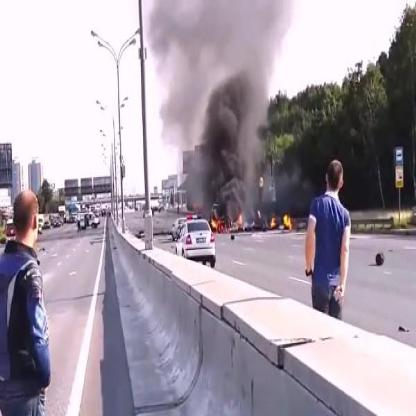fire: (211, 212, 245, 232), (268, 212, 294, 230)
